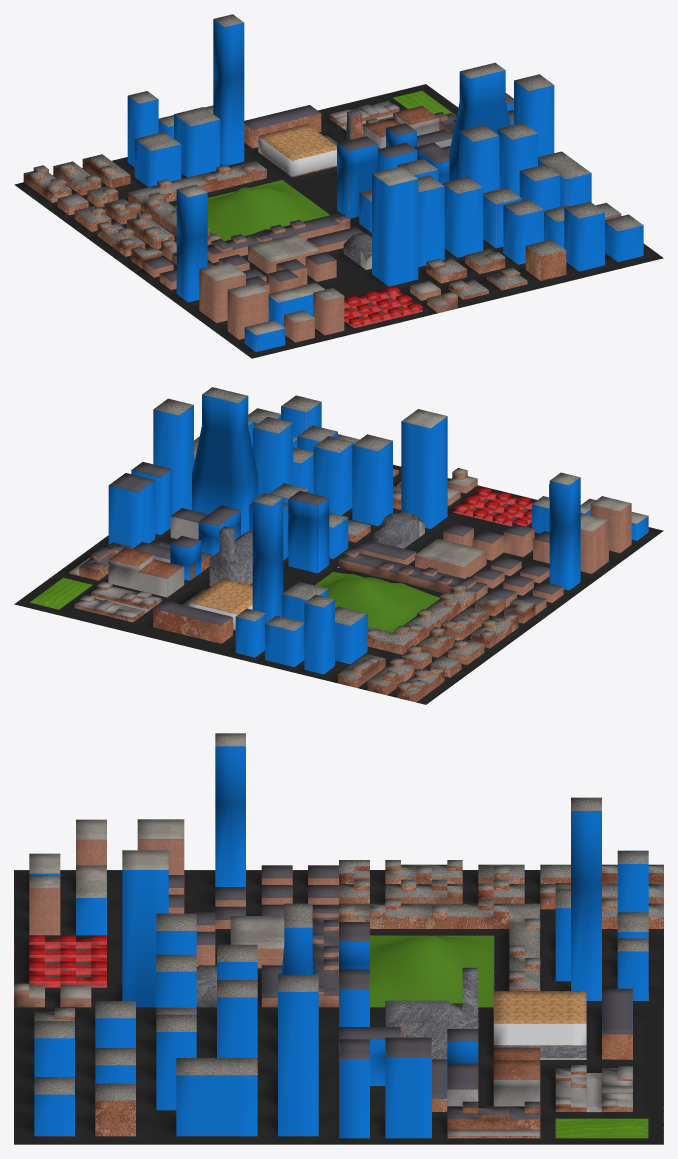
Rendered from City.glb.
3 views of the same model, one above another, from view 1: azimuth 30°, elevation 25°; view 2: azimuth 150°, elevation 25°; view 3: azimuth 270°, elevation 25° (orthographic). The views are drawn at different scales.
Visible parts, largest first — view 1: Plane, Plane.003, Plane.001, Plane.002; view 2: Plane.003, Plane.002, Plane.001, Plane; view 3: Plane, Plane.002, Plane.003, Plane.001.
Boxes of the visible parts, bbox=[...] form: Plane: bbox=[350, 62, 663, 308]; Plane.003: bbox=[133, 166, 457, 358]; Plane.001: bbox=[14, 14, 329, 271]; Plane.002: bbox=[244, 84, 513, 218]; Plane.003: bbox=[339, 409, 663, 617]; Plane.002: bbox=[14, 462, 337, 654]; Plane.001: bbox=[220, 493, 544, 704]; Plane: bbox=[153, 387, 450, 567]; Plane: bbox=[14, 903, 338, 1144]; Plane.002: bbox=[339, 922, 663, 1144]; Plane.003: bbox=[14, 733, 338, 1007]; Plane.001: bbox=[339, 797, 663, 1007].
Size of the model in its own units: 400 by 129 by 400.
4 materials, 4 textured.
